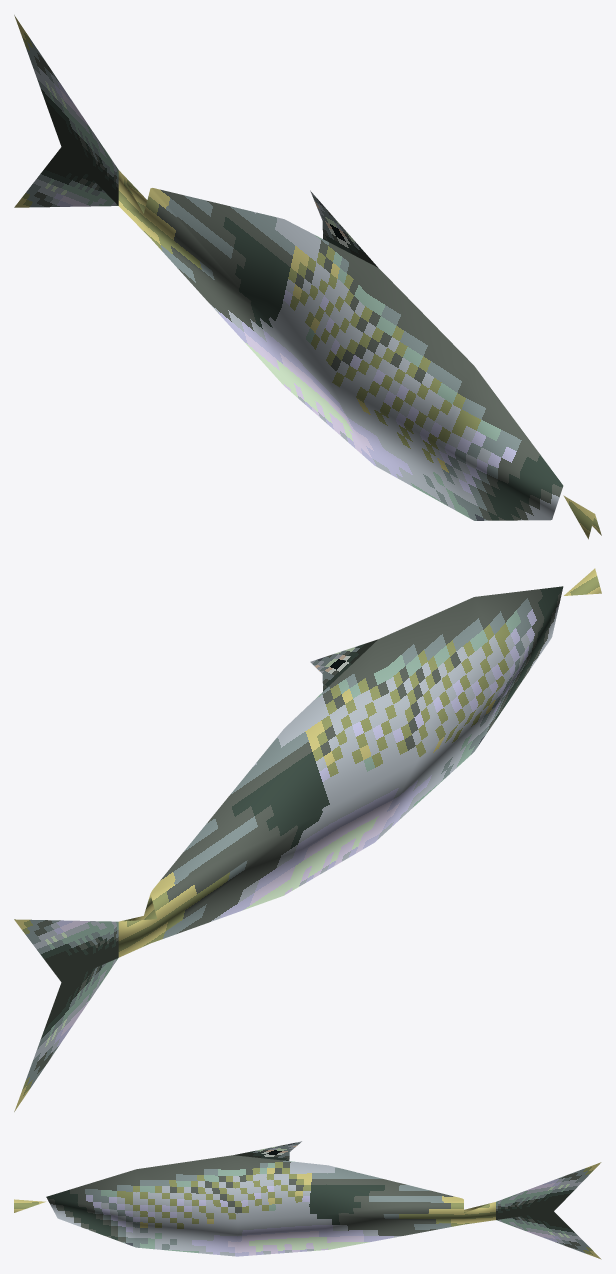
3 renders of one model, top to bottom at view 1: azimuth 30°, elevation 25°; view 2: azimuth 150°, elevation 25°; view 3: azimuth 270°, elevation 25°, orthographic. The views are drawn at different scales.
Visible parts, largest first — view 1: 4864fish74; view 2: 4864fish74; view 3: 4864fish74.
Boxes of the visible parts, <box> form: 4864fish74: <box>14,15,601,539</box>; 4864fish74: <box>14,568,601,1111</box>; 4864fish74: <box>14,1141,601,1259</box>.
Size of the model in its own units: 0.0928 by 0.2351 by 1.06.
1 material, 1 textured.
